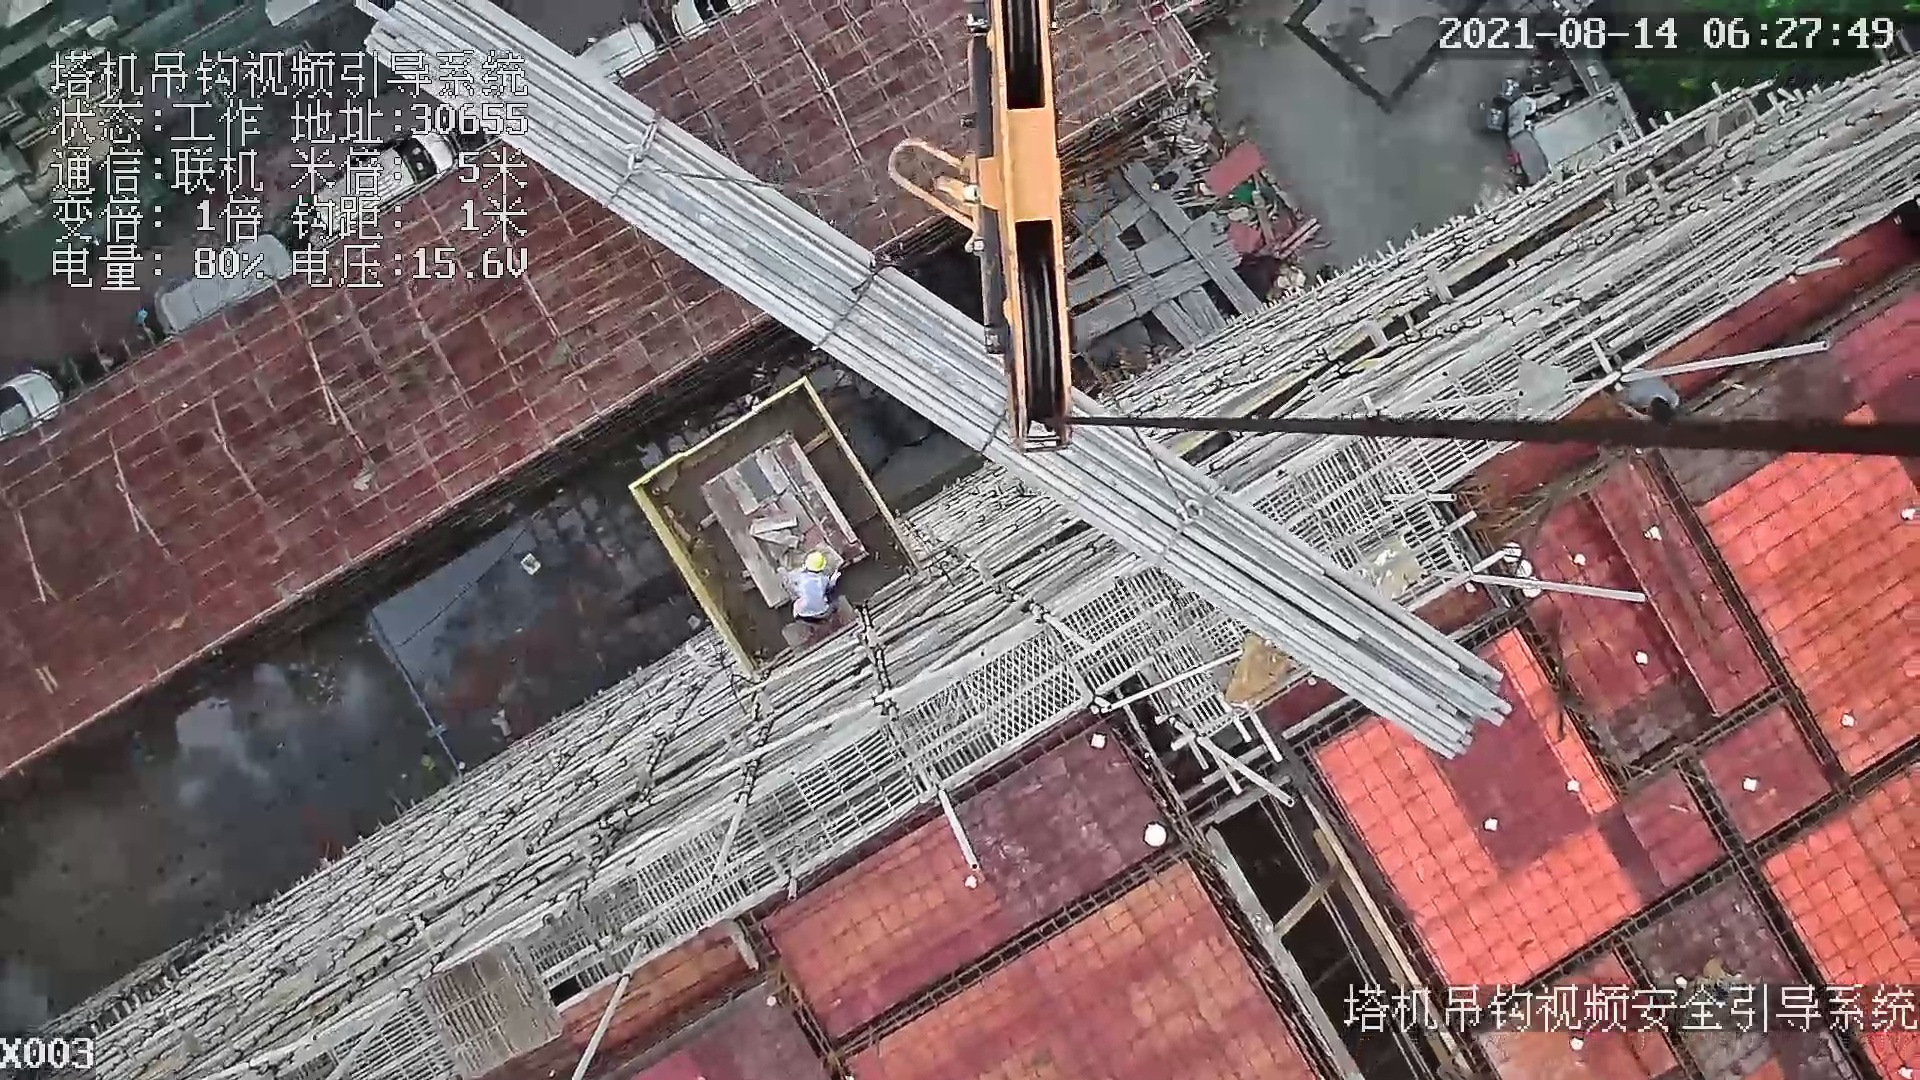helmet: (800, 540, 835, 583)
hook: (959, 1, 1077, 454)
person: (782, 548, 840, 621), (1625, 383, 1694, 430)
